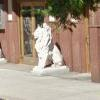Statue: (26, 17, 72, 73)
